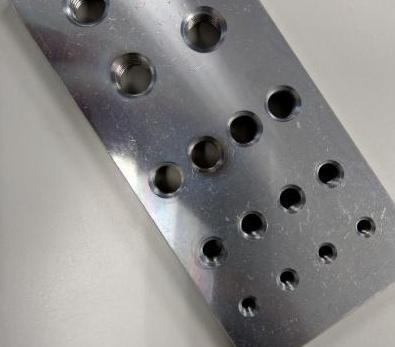hole: (180, 4, 229, 55), (109, 51, 158, 99), (224, 109, 264, 149), (186, 134, 225, 175), (263, 83, 303, 122), (147, 160, 186, 198), (60, 0, 111, 28), (236, 209, 268, 242), (198, 235, 229, 267), (276, 182, 307, 214), (314, 158, 346, 189), (275, 266, 301, 292), (237, 293, 261, 317), (315, 240, 338, 265), (354, 215, 377, 240)
